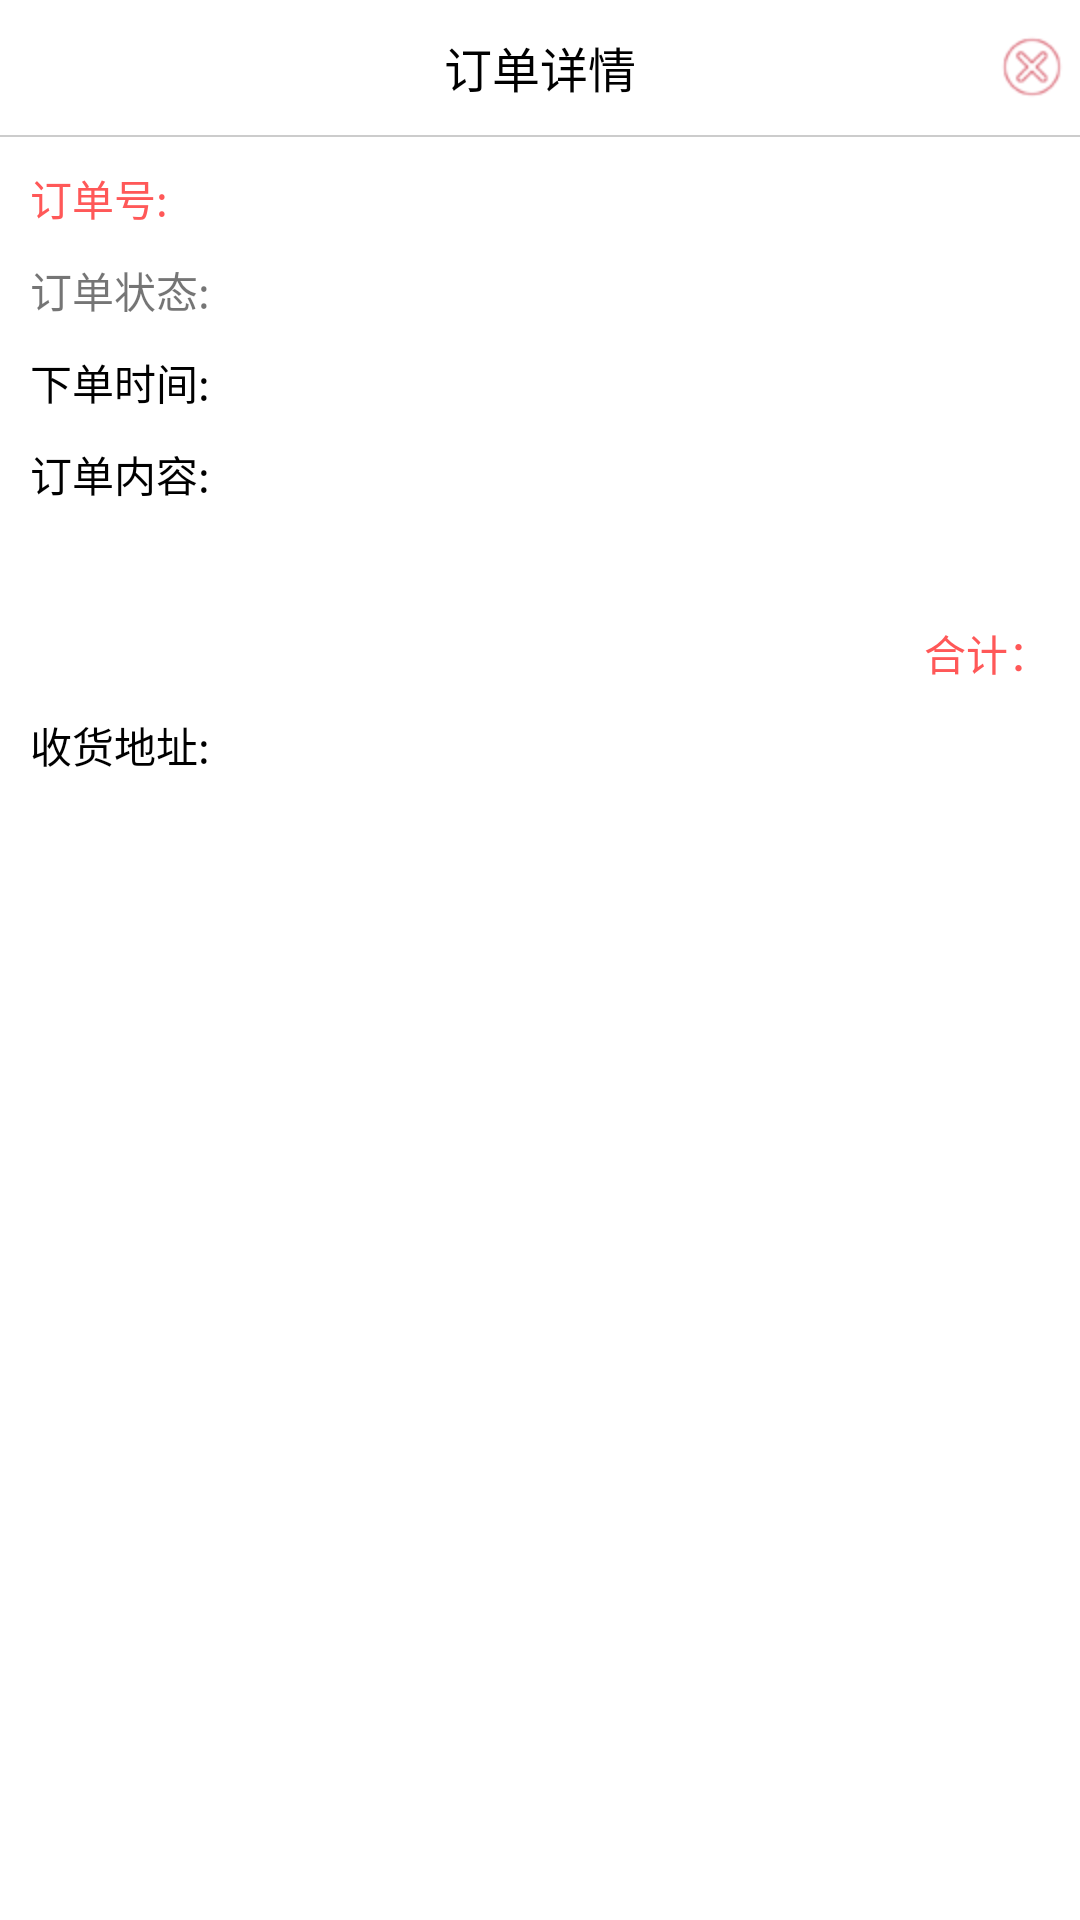

Locate icon controls on the screen. Image size 1080w x 1920h, boxes as (x1, y1, x2, y2).
close: (1003, 38, 1061, 96)
